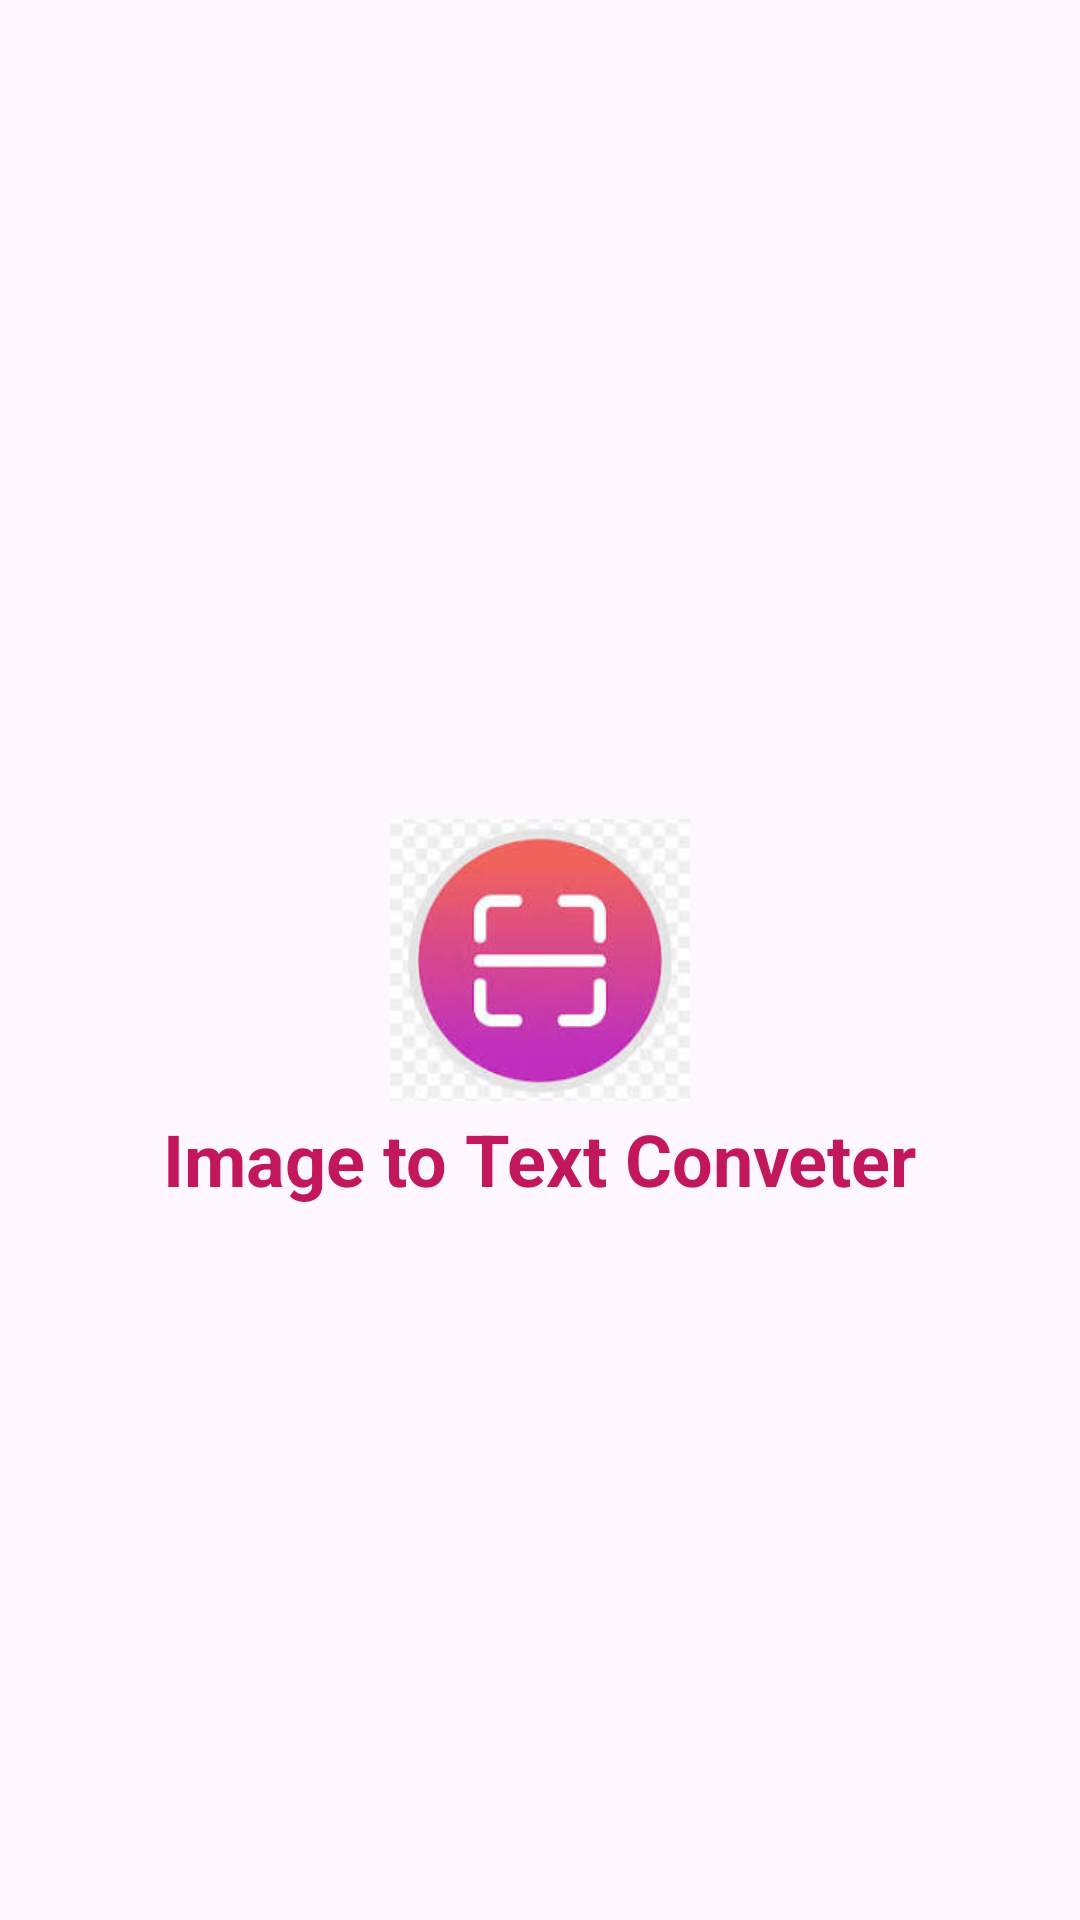

Screen size 1080 × 1920. Icon name, then its box in pixels as (x1, y1, x2, y2):
scanneer: (409, 829, 671, 1092)
